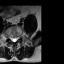CCS_normal: (13, 35, 15, 44)
LFS_normal: (17, 34, 19, 41)
LLS_normal: (15, 34, 17, 42)
RFS_normal: (8, 34, 11, 41)
RLS_normal: (11, 34, 13, 43)
